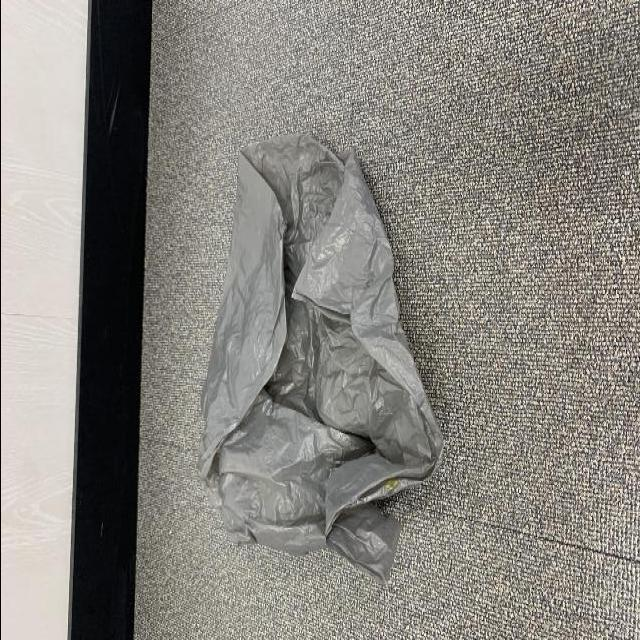plastic bag: (192, 128, 448, 588)
